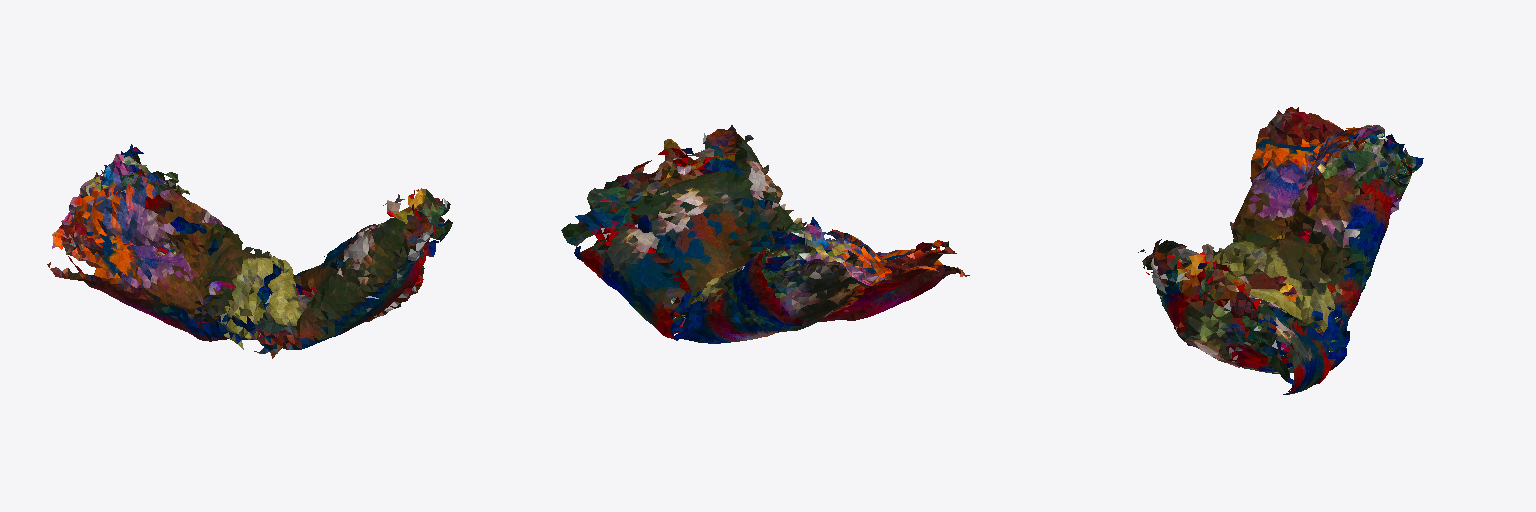
3 views of the same model, side by side, from view 1: azimuth 30°, elevation 25°; view 2: azimuth 150°, elevation 25°; view 3: azimuth 270°, elevation 25° (orthographic).
Visible parts, largest first — view 1: ArtScan2; view 2: ArtScan2; view 3: ArtScan2.
Part boxes in pixels (bbox=[...]): ArtScan2: bbox=[47, 144, 452, 358]; ArtScan2: bbox=[561, 125, 969, 343]; ArtScan2: bbox=[1138, 107, 1423, 394].
Bounding box in the file's own units: 13.58 × 5.65 × 8.36.
27 materials, 26 textured.